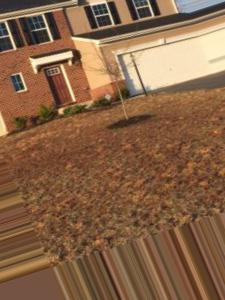patch: (34, 134, 194, 213), (49, 221, 98, 252), (179, 104, 202, 122), (16, 140, 31, 167), (112, 118, 130, 130), (76, 120, 98, 129), (130, 114, 147, 122)
